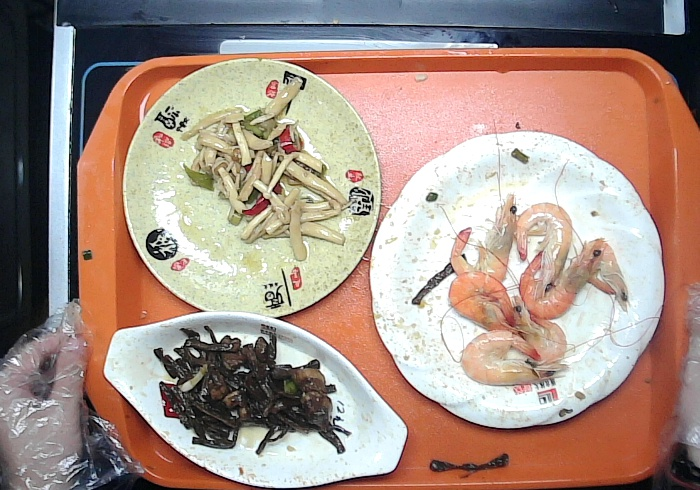NLDX-Bai_Zhe_Yuan_Pan: (369, 131, 667, 430)
NLDX-Fu_Zi_Yuan_Pan: (121, 58, 383, 315)
NLDX-Yu_Pan: (101, 311, 406, 489)
